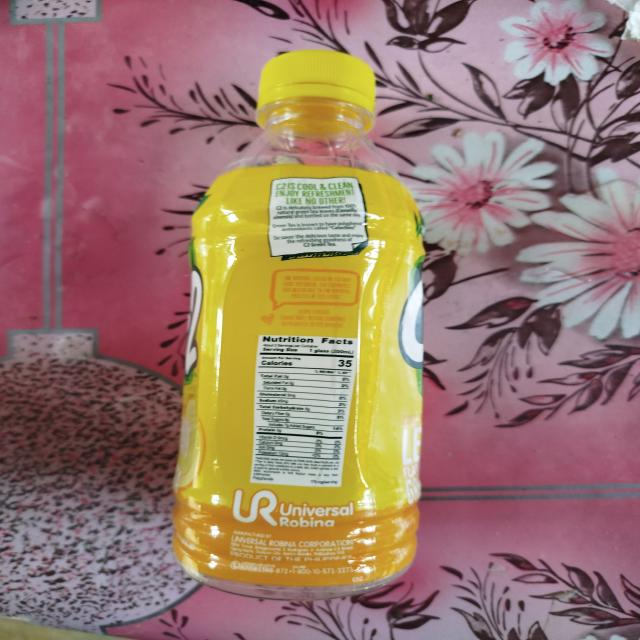plastic: (154, 39, 452, 609)
